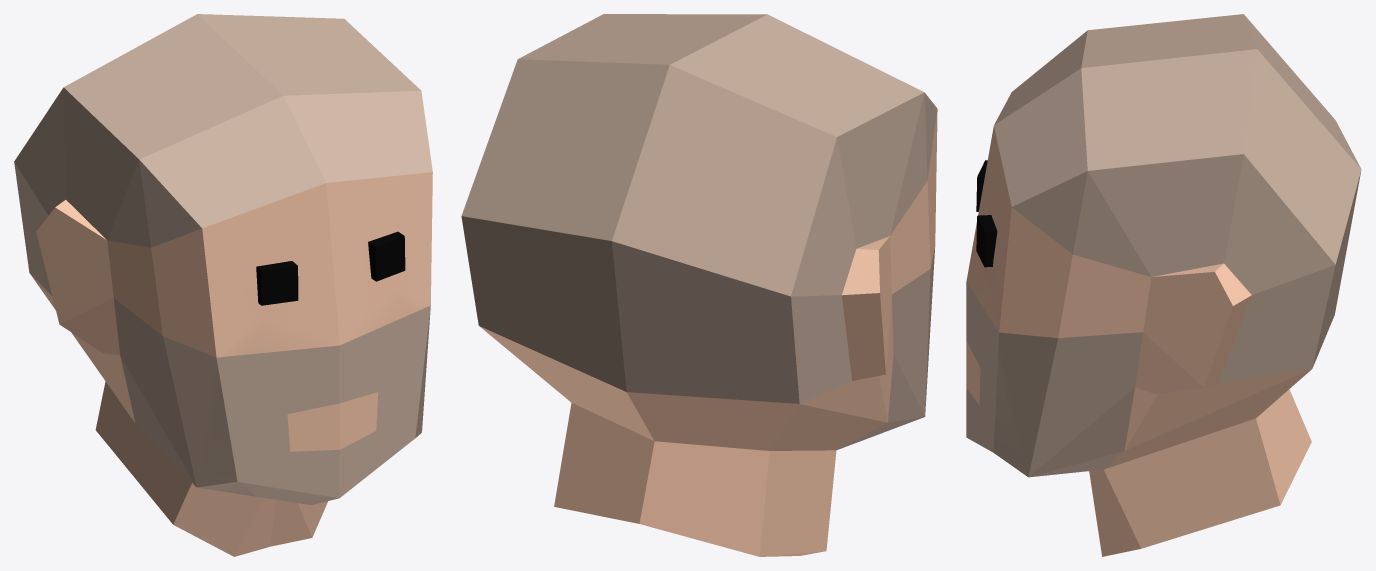
Rendered from Chr_Head_Male_14_Static.fbx.
3 renders of one model, left to right at view 1: azimuth 30°, elevation 25°; view 2: azimuth 150°, elevation 25°; view 3: azimuth 270°, elevation 25°, orthographic. The views are drawn at different scales.
Parts seen in each view (by area): view 1: Chr_Head_Male_14_Static; view 2: Chr_Head_Male_14_Static; view 3: Chr_Head_Male_14_Static.
Part boxes in pixels (left/top/right/bottom): Chr_Head_Male_14_Static: left=14, top=14, right=432, bottom=556; Chr_Head_Male_14_Static: left=461, top=14, right=937, bottom=556; Chr_Head_Male_14_Static: left=966, top=14, right=1361, bottom=556.
Bounding box in the file's own units: 0.2661 × 0.3523 × 0.2574.
